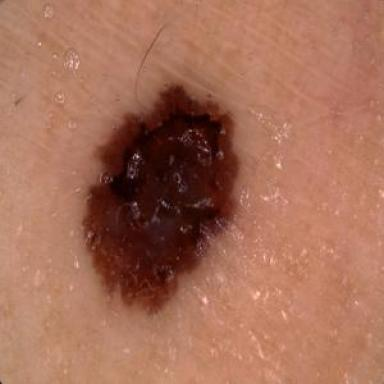Melanoma: (83, 85, 238, 312)
